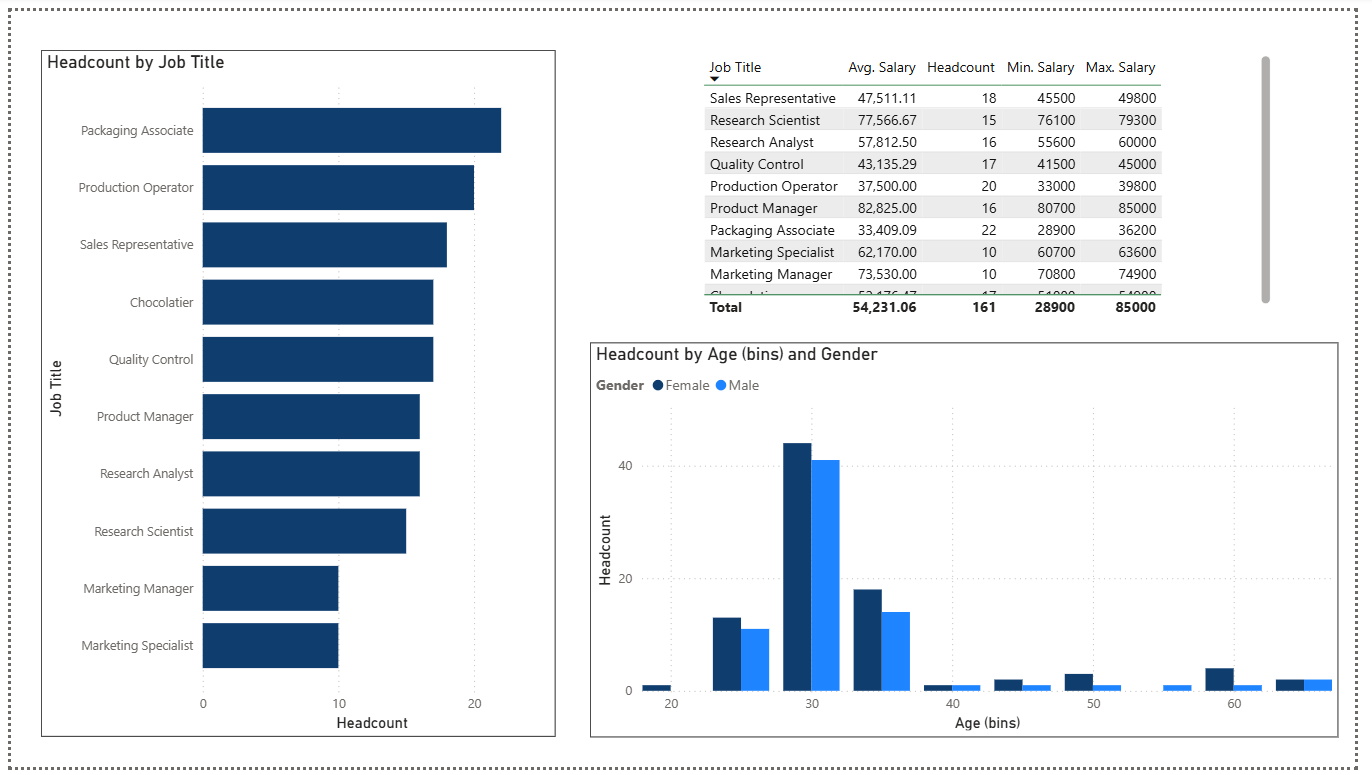

The page's visual inventory and layout, read from the dashboard file:
{"tool":"powerbi","page":{"name":"Page 2","canvas":[1280,720],"ordinal":3},"visuals":[{"type":"tableEx","fields":{"Values":["staff.Job Title","staff.Avg. Salary","staff.Headcount","staff.Min. Salary","staff.Max. Salary"]},"box":[654.3,37.1,550,258.6],"z":0},{"type":"clusteredColumnChart","fields":{"Category":["staff.Age (bins)"],"Y":["staff.Headcount"],"Series":["staff.Gender"]},"box":[551.4,315.7,712.9,375.7],"z":1},{"type":"barChart","fields":{"Category":["staff.Job Title"],"Y":["staff.Headcount"]},"box":[28.6,37.1,490,654.3],"z":2}]}

Visuals, with their boxes in screenshot pixels (x1, y1, x2, y2), scaled from the page's 1280x720 canvas onto the 1372x775 screenshot:
tableEx - staff.Job Title x staff.Avg. Salary: (x1=701, y1=40, x2=1291, y2=318)
clusteredColumnChart - staff.Age (bins) x staff.Headcount: (x1=591, y1=340, x2=1355, y2=744)
barChart - staff.Job Title x staff.Headcount: (x1=31, y1=40, x2=556, y2=744)
